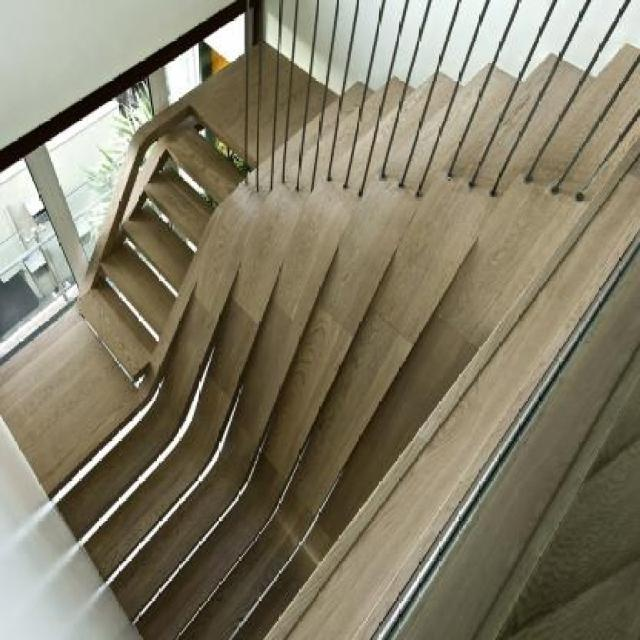stair: (11, 1, 265, 402), (285, 18, 640, 279)
